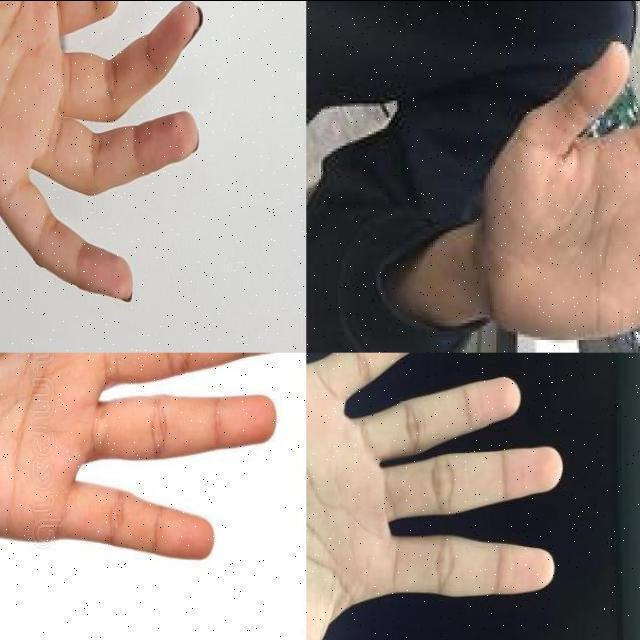hand: (307, 352, 570, 640), (0, 352, 305, 562), (0, 0, 204, 303), (480, 38, 640, 342)
